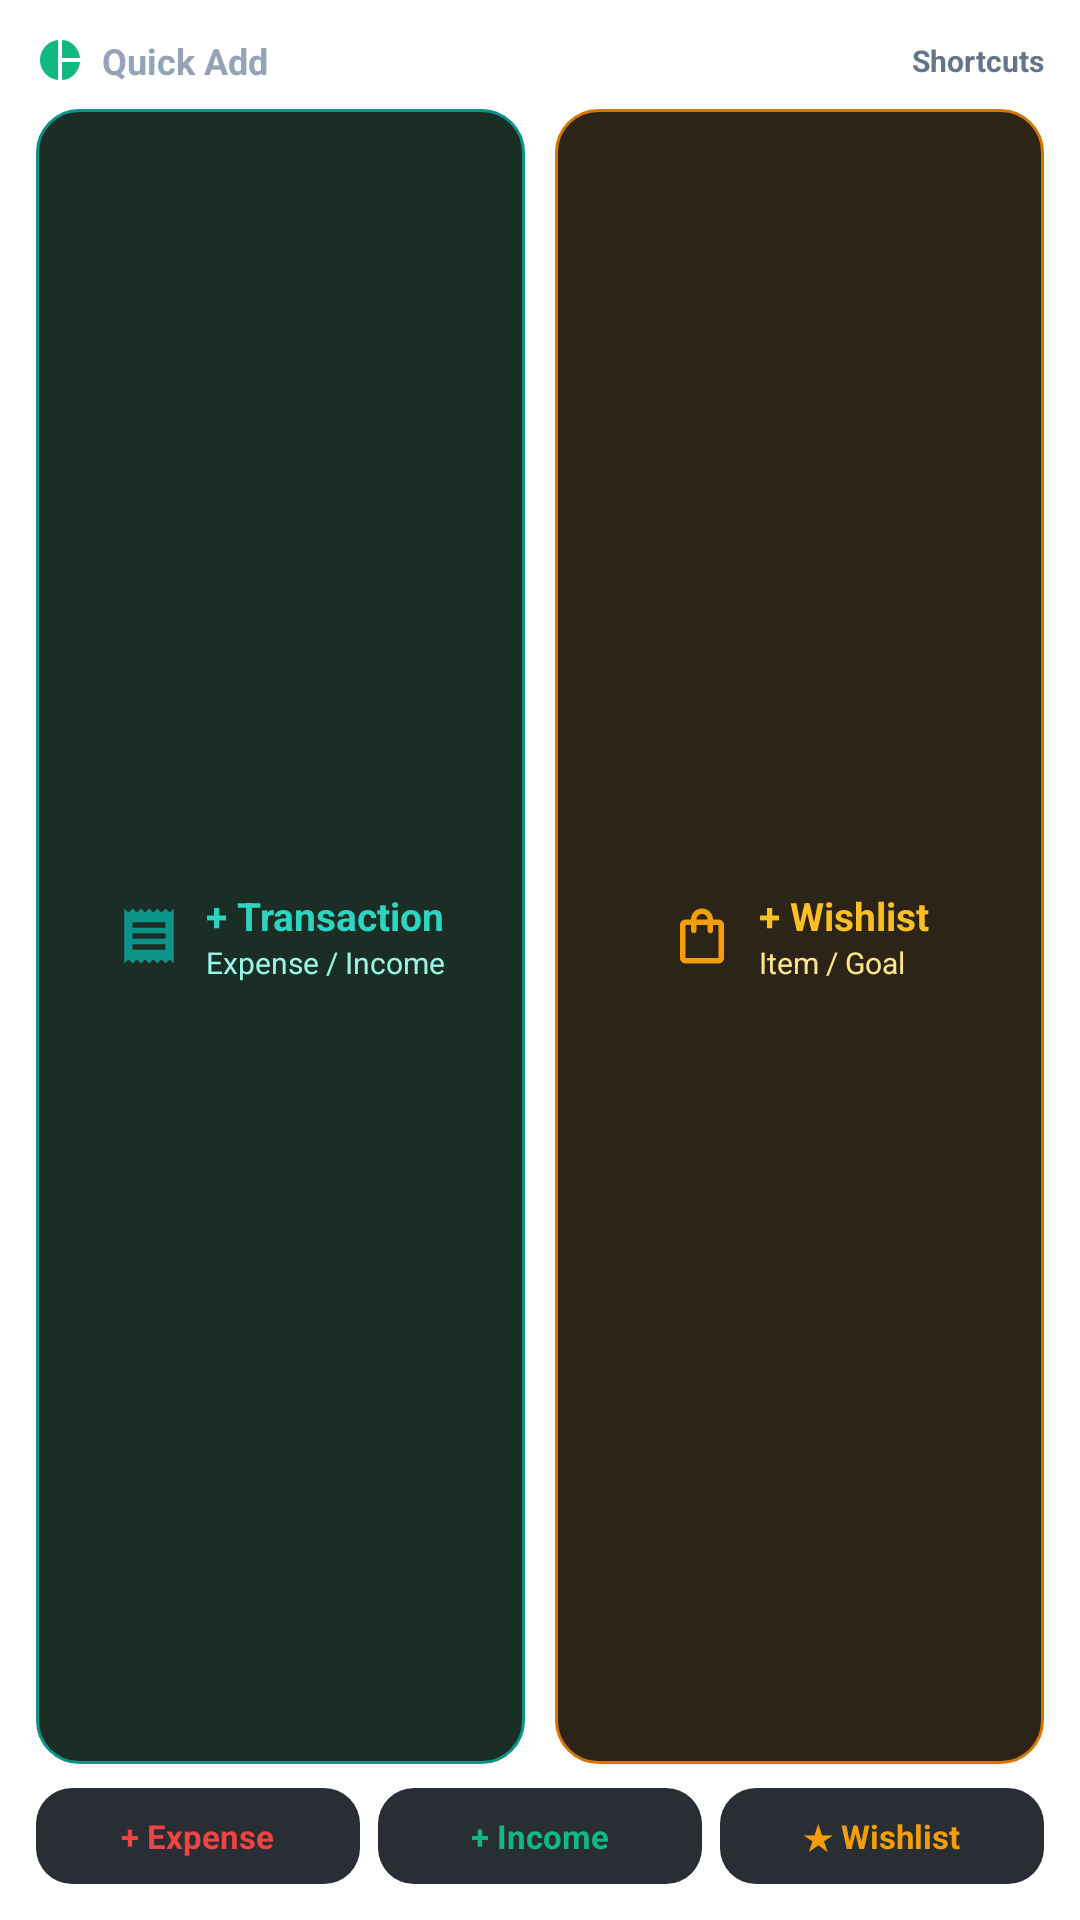

Where to tap for icons on this 1080w x 1920h app screen, as [x,y]:
Budgeter: [60,60]
